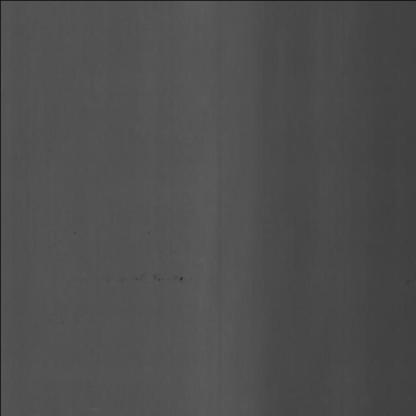inclusion: (175, 268, 186, 292), (150, 269, 166, 284)
